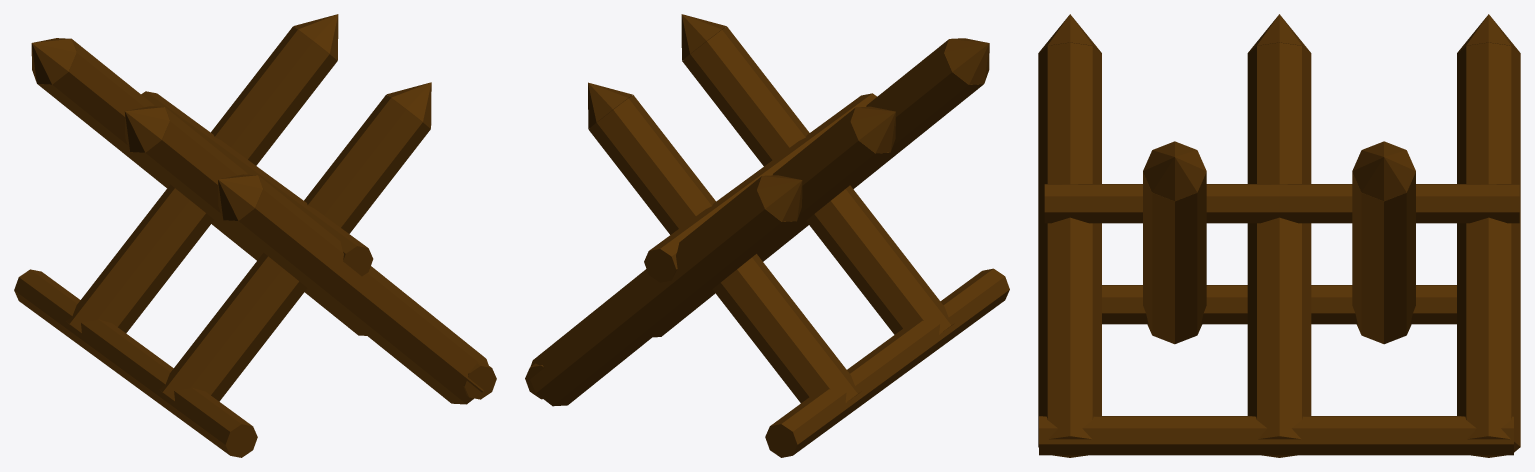
Rendered from barricada de madeira.fbx.
The picture shows the model from 3 angles, left to right: view 1: azimuth 30°, elevation 25°; view 2: azimuth 150°, elevation 25°; view 3: azimuth 270°, elevation 25°; orthographic projection. The views are drawn at different scales.
Parts seen in each view (by area): view 1: Cilindro.001, Cilindro.003, Cilindro, Cilindro.006, Cilindro.002, Cilindro.004, Cilindro.005, Cilindro.007; view 2: Cilindro.004, Cilindro.001, Cilindro.003, Cilindro.006, Cilindro.002, Cilindro, Cilindro.005; view 3: Cilindro.002, Cilindro.004, Cilindro, Cilindro.007, Cilindro.005, Cilindro.001, Cilindro.003, Cilindro.006.
Boxes of the visible parts, x1,y1,x2,y2 form: Cilindro.001: (159,82,431,401); Cilindro.003: (65,14,338,333); Cilindro: (218,174,488,404); Cilindro.006: (14,269,257,457); Cilindro.002: (124,106,366,335); Cilindro.004: (31,38,259,260); Cilindro.005: (141,91,373,276); Cilindro.007: (463,362,496,399); Cilindro.004: (530,175,802,406); Cilindro.001: (681,14,955,334); Cilindro.003: (588,82,861,402); Cilindro.006: (765,268,1009,457); Cilindro.002: (653,106,895,337); Cilindro: (760,38,989,261); Cilindro.005: (644,93,877,282); Cilindro.002: (1247,14,1311,457); Cilindro.004: (1457,14,1520,457); Cilindro: (1038,14,1101,457); Cilindro.007: (1039,416,1513,455); Cilindro.005: (1044,184,1519,223); Cilindro.001: (1143,141,1206,344); Cilindro.003: (1352,141,1415,344); Cilindro.006: (1102,285,1456,324).
Size of the model in its own units: 112 by 109 by 151.
